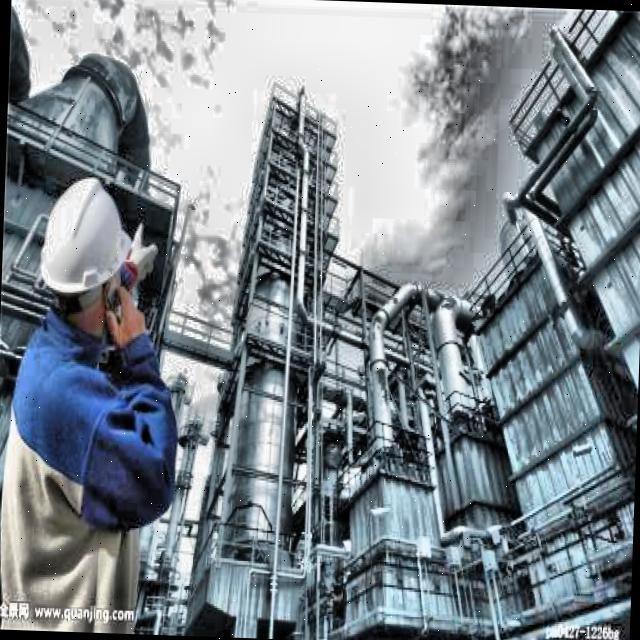helmet: (30, 164, 142, 350)
